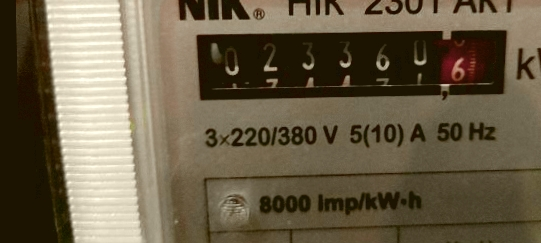0: (219, 43, 241, 77), (410, 36, 428, 67)
2: (257, 39, 281, 74)
3: (295, 39, 317, 71), (334, 37, 354, 68)
6: (370, 39, 391, 72), (446, 53, 467, 82)
screen: (177, 11, 521, 115)
